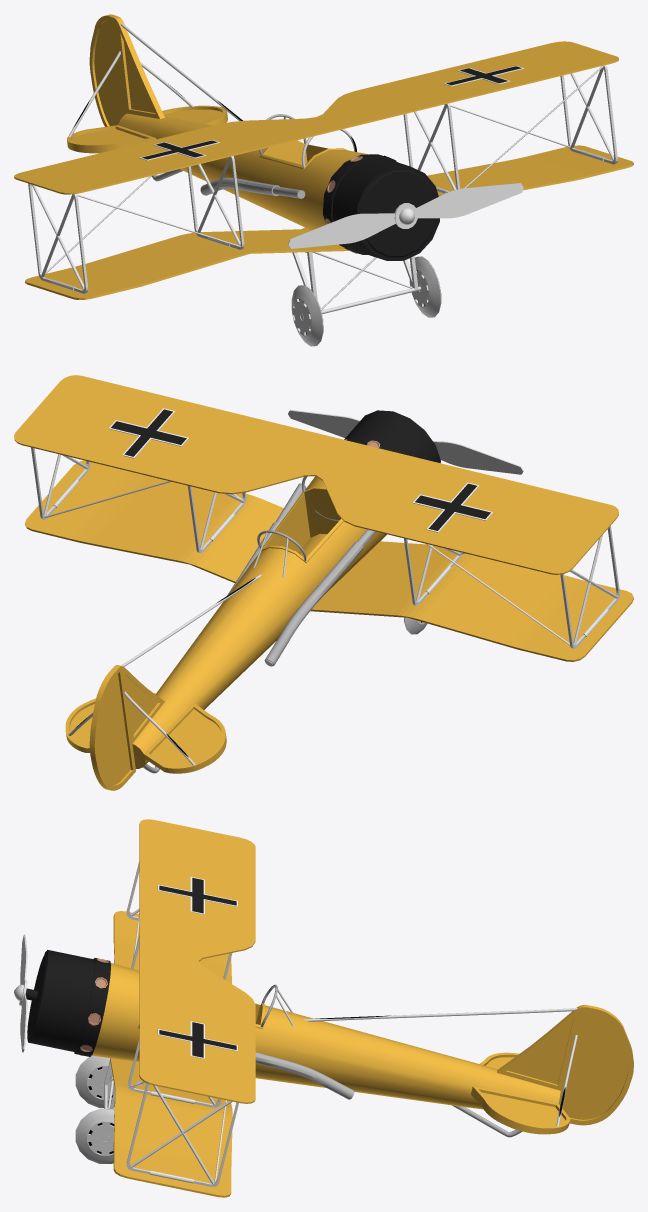
The model's file is vintage_toy_plane.fbx.
3 renders of one model, top to bottom at view 1: azimuth 30°, elevation 25°; view 2: azimuth 150°, elevation 25°; view 3: azimuth 270°, elevation 25°, orthographic. The views are drawn at different scales.
Visible parts, largest first — view 1: plane, wing_top, wing_bottom, prop, tires, wing_support_pannel_left, wing_support_pannel_right, cross, pipe_left, BezierCurve.002; view 2: wing_top, wing_bottom, plane, cross, wing_support_pannel_left, prop, wing_support_pannel_right, pipe_left, pipe_right; view 3: plane, wing_top, wing_bottom, tires, wing_support_pannel_right, cross, pipe_right, BezierCurve.002, prop, wing_support_pannel_left.
Boxes of the visible parts, left/top/right/bottom form: plane: left=67, top=14, right=439, bottom=260; wing_top: left=14, top=41, right=618, bottom=194; wing_bottom: left=25, top=145, right=633, bottom=299; prop: left=288, top=183, right=523, bottom=248; tires: left=291, top=252, right=441, bottom=346; wing_support_pannel_left: left=28, top=156, right=244, bottom=293; wing_support_pannel_right: left=403, top=65, right=617, bottom=193; cross: left=140, top=65, right=524, bottom=160; pipe_left: left=200, top=177, right=305, bottom=198; BezierCurve.002: left=120, top=22, right=242, bottom=121; wing_top: left=14, top=375, right=618, bottom=574; wing_bottom: left=25, top=460, right=633, bottom=661; plane: left=65, top=410, right=440, bottom=790; cross: left=108, top=408, right=493, bottom=532; wing_support_pannel_left: left=404, top=526, right=619, bottom=648; prop: left=288, top=410, right=523, bottom=474; wing_support_pannel_right: left=31, top=447, right=246, bottom=553; pipe_left: left=264, top=529, right=375, bottom=666; pipe_right: left=227, top=483, right=306, bottom=595; plane: left=25, top=950, right=633, bottom=1134; wing_top: left=139, top=819, right=255, bottom=1103; wing_bottom: left=110, top=911, right=232, bottom=1197; tires: left=75, top=1055, right=114, bottom=1163; wing_support_pannel_right: left=126, top=1038, right=238, bottom=1186; cross: left=157, top=877, right=237, bottom=1059; pipe_right: left=138, top=1024, right=354, bottom=1099; BezierCurve.002: left=304, top=1008, right=577, bottom=1021; prop: left=14, top=934, right=27, bottom=1052; wing_support_pannel_left: left=126, top=861, right=232, bottom=979.
Bounding box in the file's own units: 1322 × 437 × 1307.
